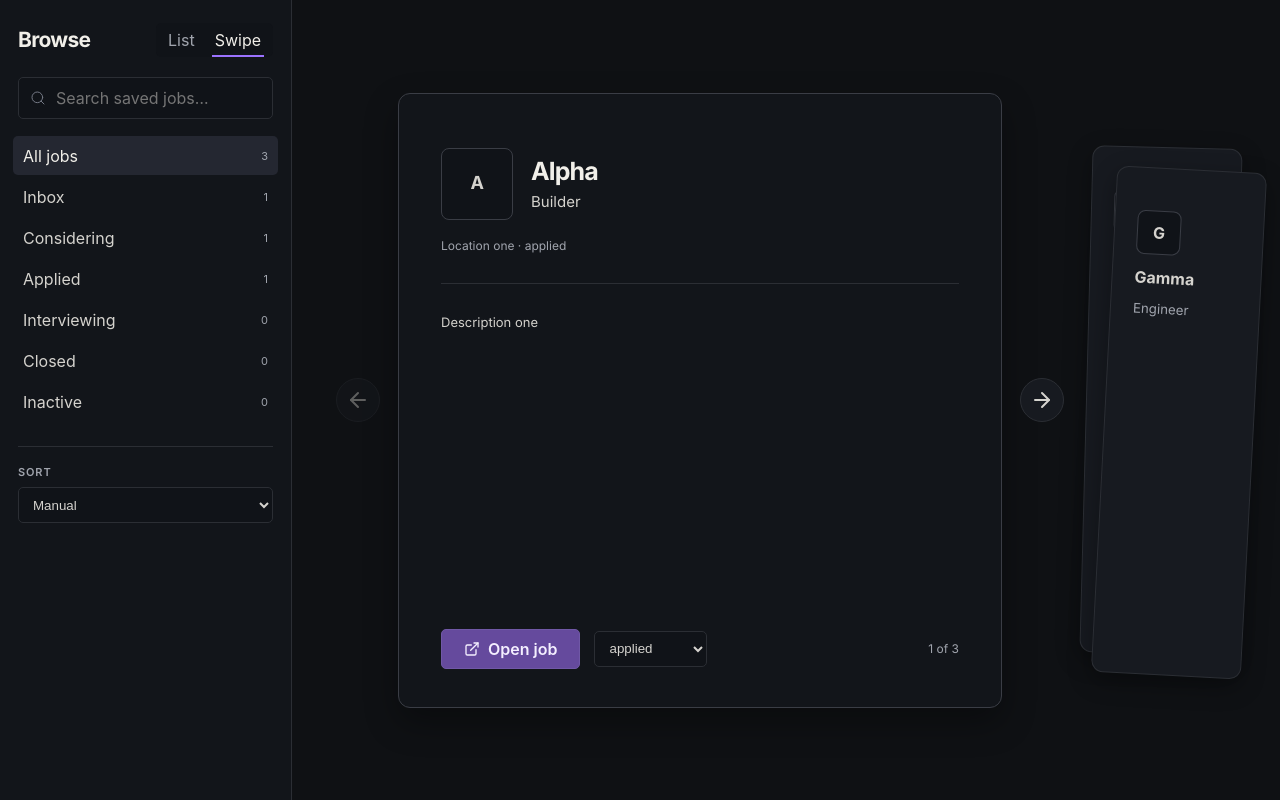
Test: swipe keyboard and pointer navigation respect endpoints and editable controls
Expected: the text "Description one" is shown, [441,314,538,330]
Press ArrowLeft
Expected: the text "1 of 3" is shown, [928,641,959,656]
Press ArrowRight
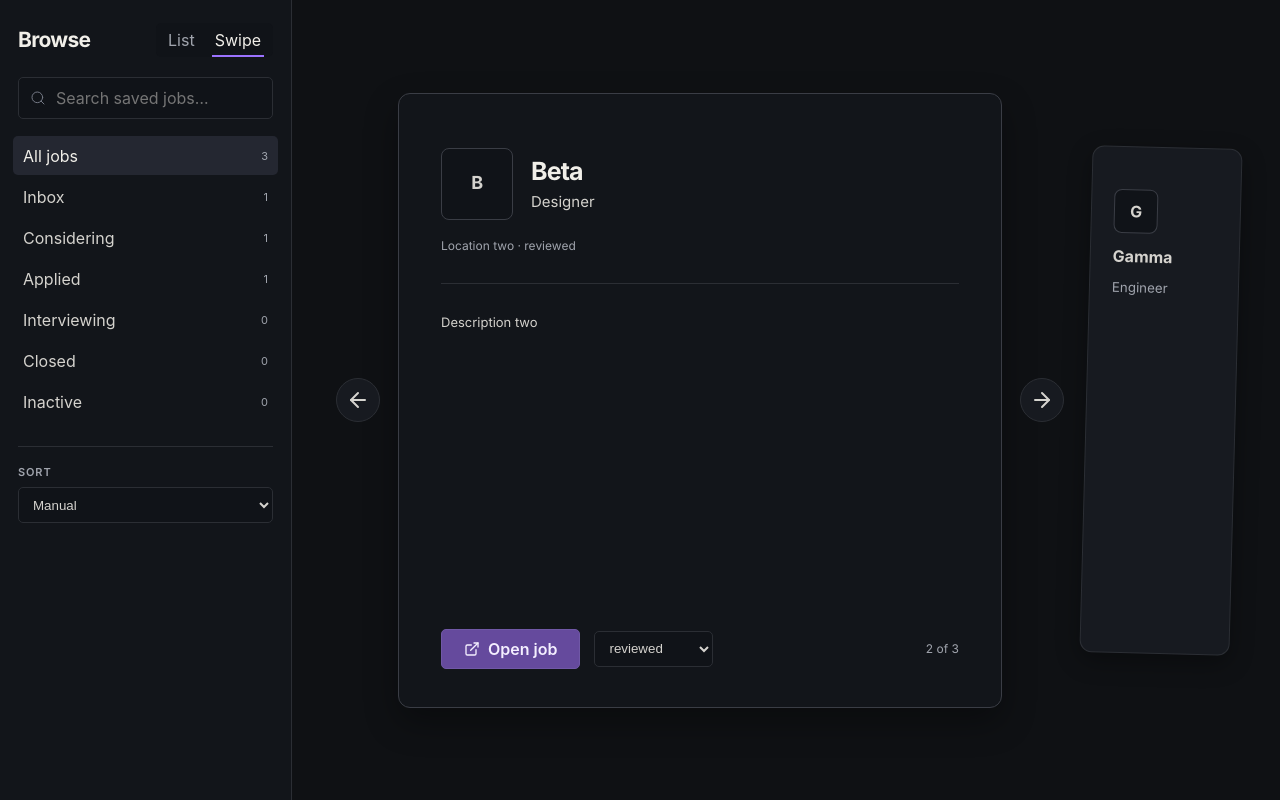
Expected: the text "2 of 3" is shown, [926,641,959,656]
Press ArrowRight in the field labelled "Search saved jobs", box [54,87,261,109]
Expected: the text "2 of 3" is shown, [926,641,959,656]
Press ArrowRight in the button "Open job", box [441,628,580,668]
Expected: the text "2 of 3" is shown, [926,641,959,656]
Press the mouse on the button "Open job" at (511, 648), box [441,628,580,668]
Expected: the text "2 of 3" is shown, [926,641,959,656]
Press the mouse on the element named "Opportunity swipe browser" at (786, 400), box [292,0,1279,799]
Expected: the text "2 of 3" is shown, [926,641,959,656]
Press the mouse on the element named "Opportunity swipe browser" at (786, 400), box [292,0,1279,799]
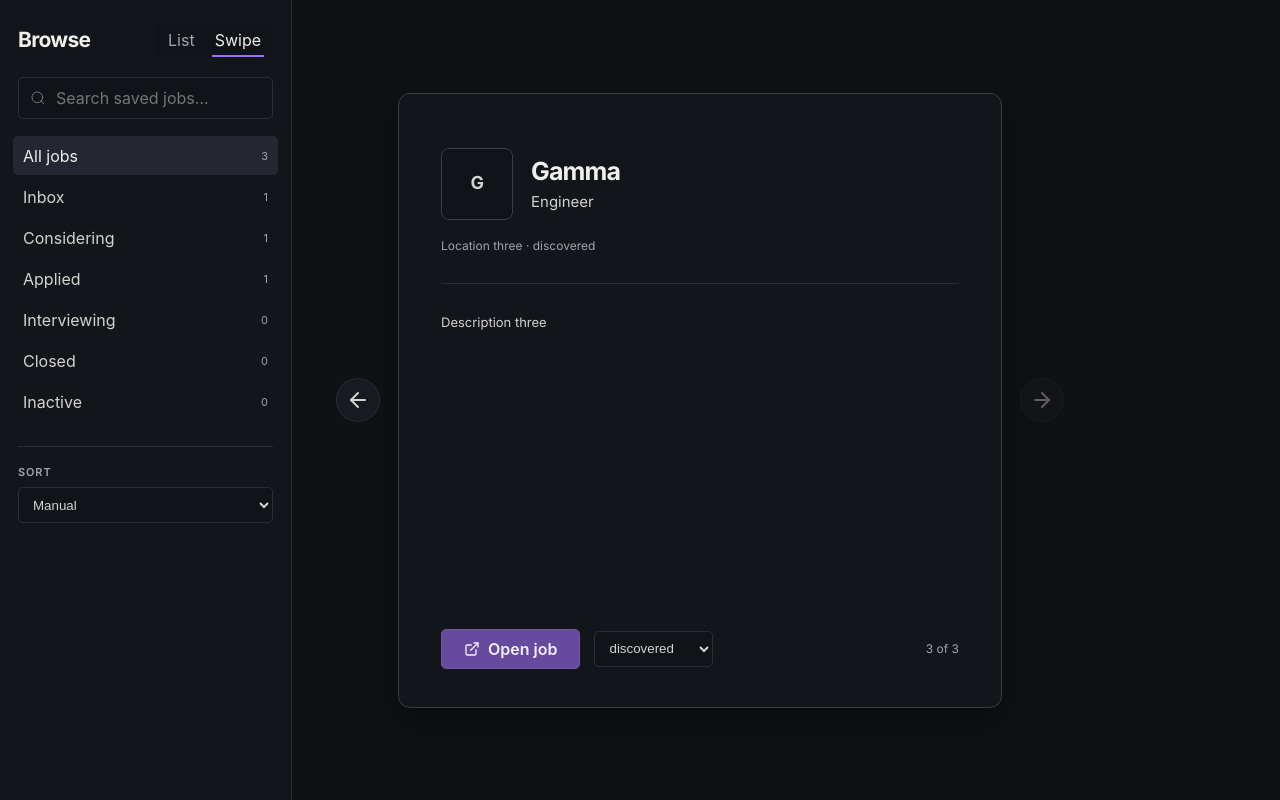
Expected: the text "3 of 3" is shown, [926,641,959,656]
Expected: the button named "Next job" is disabled, [1020,378,1064,422]
